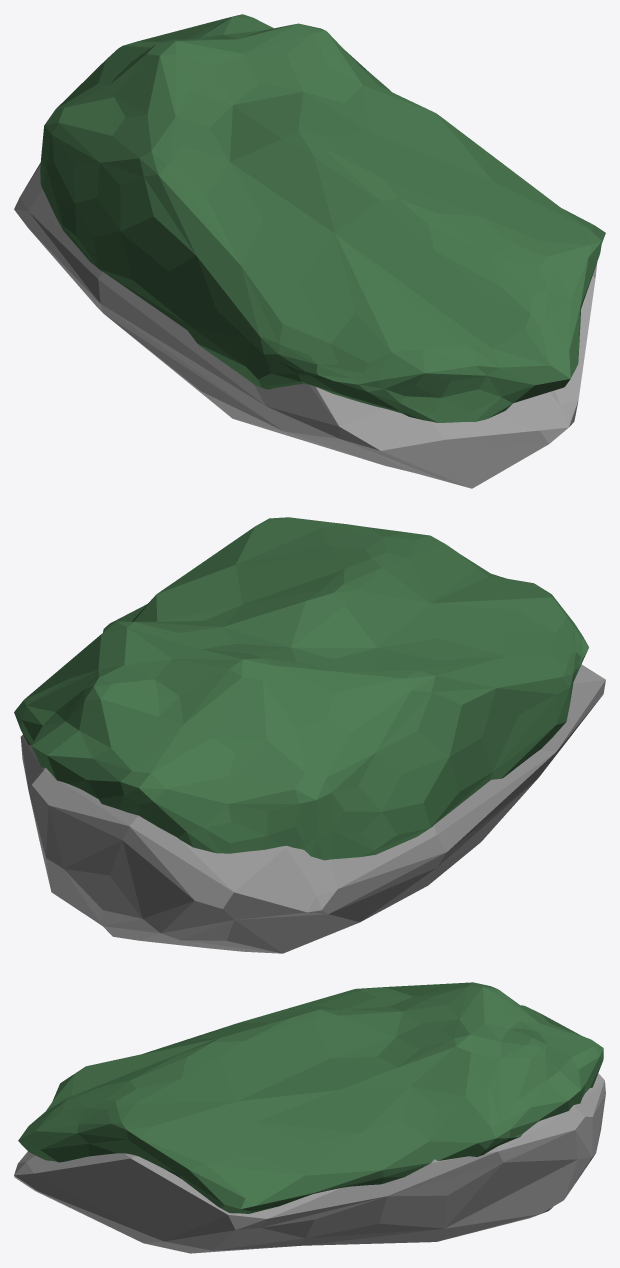
Rendered from Rock-2.glb.
3 views of the same model, one above another, from view 1: azimuth 30°, elevation 25°; view 2: azimuth 150°, elevation 25°; view 3: azimuth 270°, elevation 25° (orthographic). The views are drawn at different scales.
Parts seen in each view (by area): view 1: Rock_019; view 2: Rock_019; view 3: Rock_019.
Boxes of the visible parts, left/top/right/bottom form: Rock_019: left=14, top=14, right=605, bottom=488; Rock_019: left=14, top=517, right=605, bottom=953; Rock_019: left=14, top=982, right=605, bottom=1253.
Size of what is drawn, in the model's own units: 1.83 by 1.27 by 2.9.
Materials: 1 (1 with a texture image).
